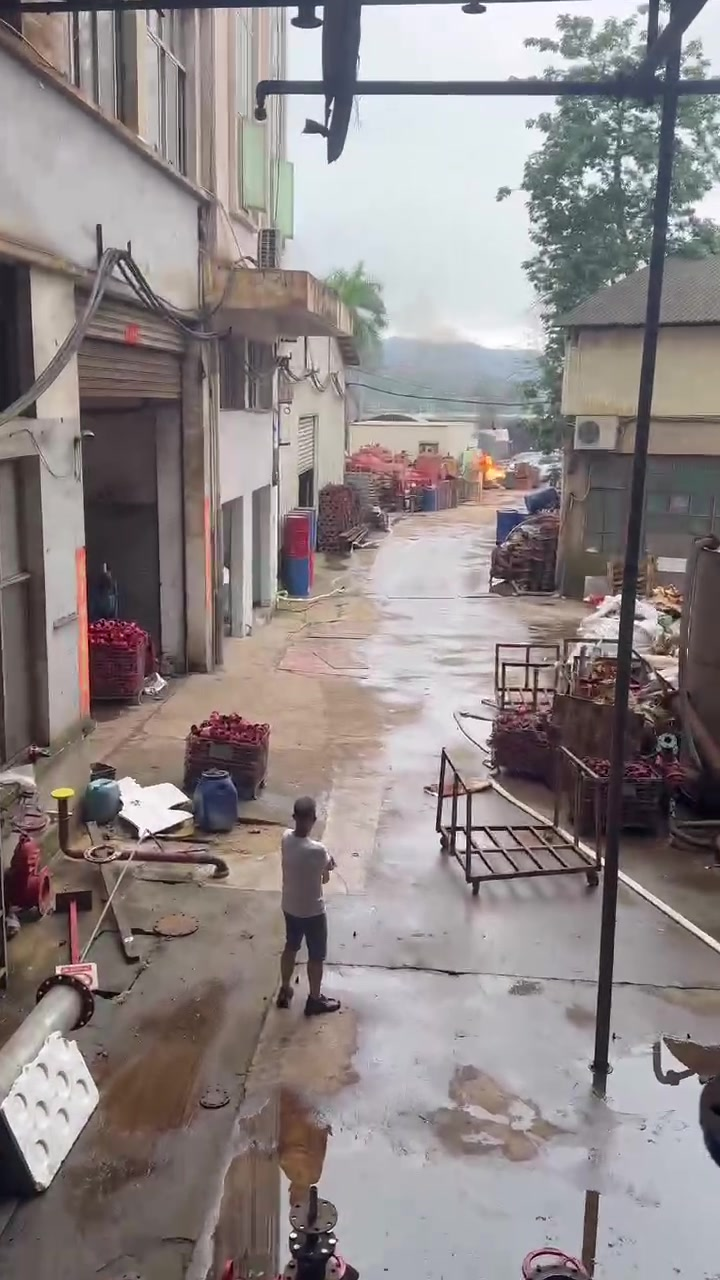fire: (480, 455, 504, 479)
